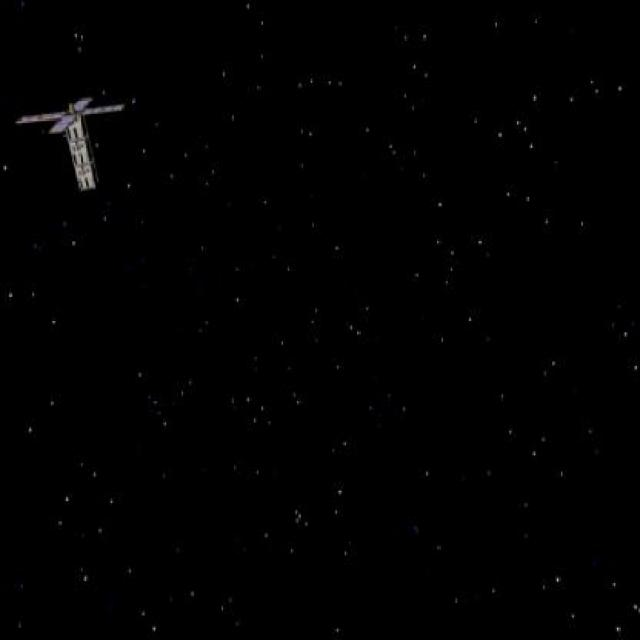medium_debris: (14, 81, 144, 204)
